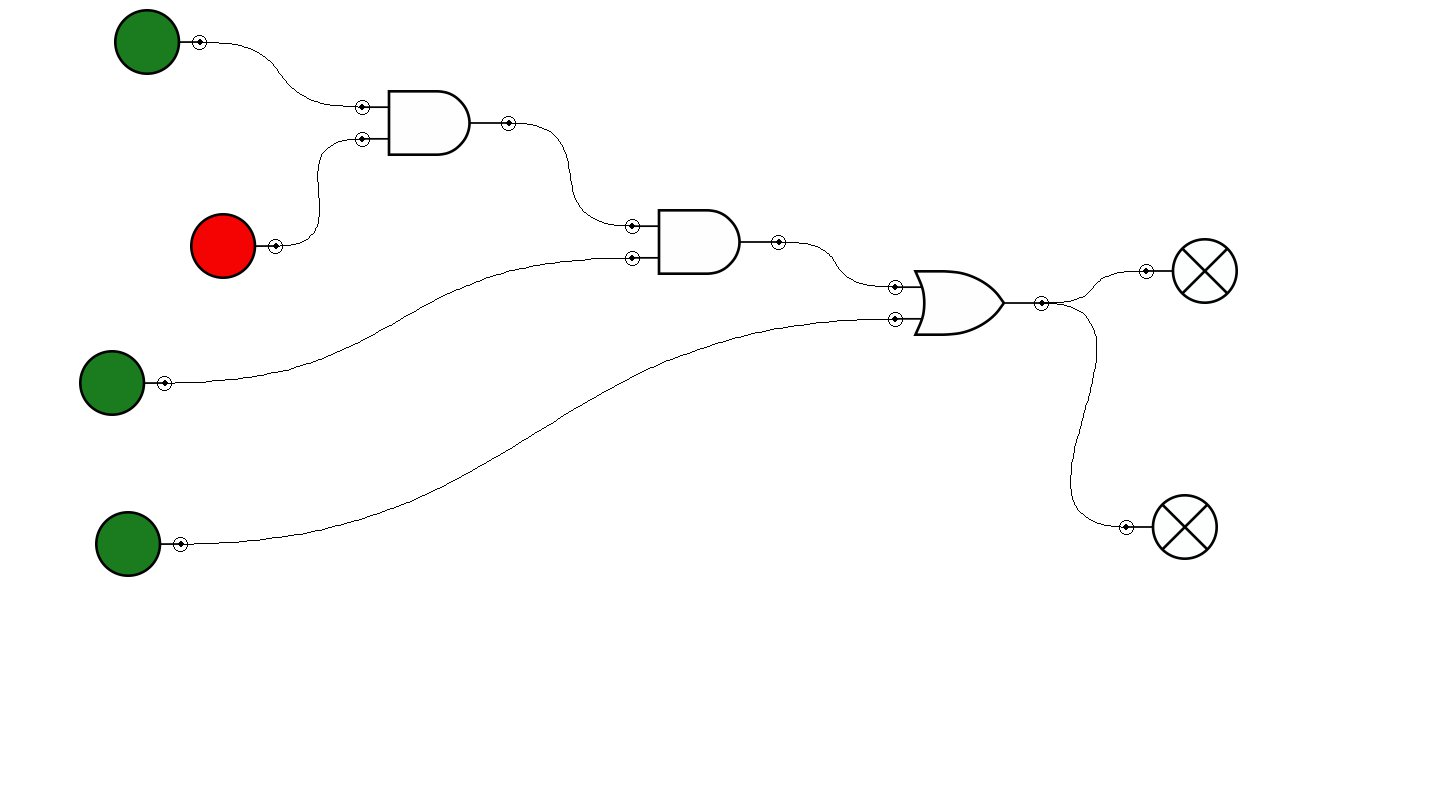and: (625, 209, 786, 275), (355, 90, 516, 156)
bulb: (1119, 494, 1218, 560), (1139, 238, 1238, 304)
or: (888, 270, 1049, 336)
switch_False: (190, 213, 283, 279)
switch_True: (114, 9, 207, 75), (95, 511, 188, 577), (79, 350, 172, 416)
